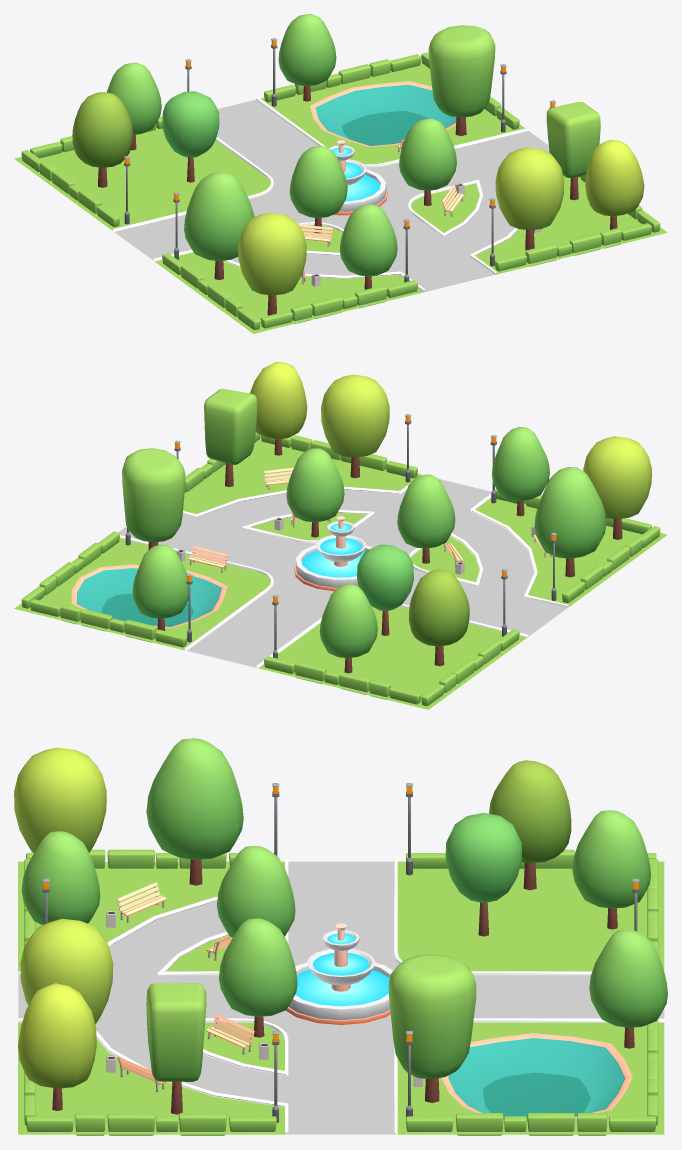
The model's file is Entertainment_Park_08.glb.
3 views of the same model, one above another, from view 1: azimuth 30°, elevation 25°; view 2: azimuth 150°, elevation 25°; view 3: azimuth 270°, elevation 25° (orthographic). The views are drawn at different scales.
Visible parts, largest first — view 1: Entertainment_Park_08; view 2: Entertainment_Park_08; view 3: Entertainment_Park_08.
Part boxes in pixels (<box>): Entertainment_Park_08: <box>14,14,667,333</box>; Entertainment_Park_08: <box>14,362,667,709</box>; Entertainment_Park_08: <box>14,738,667,1135</box>.
Size of the model in its own units: 30 by 8.38 by 30.36.
3 materials, 3 textured.
